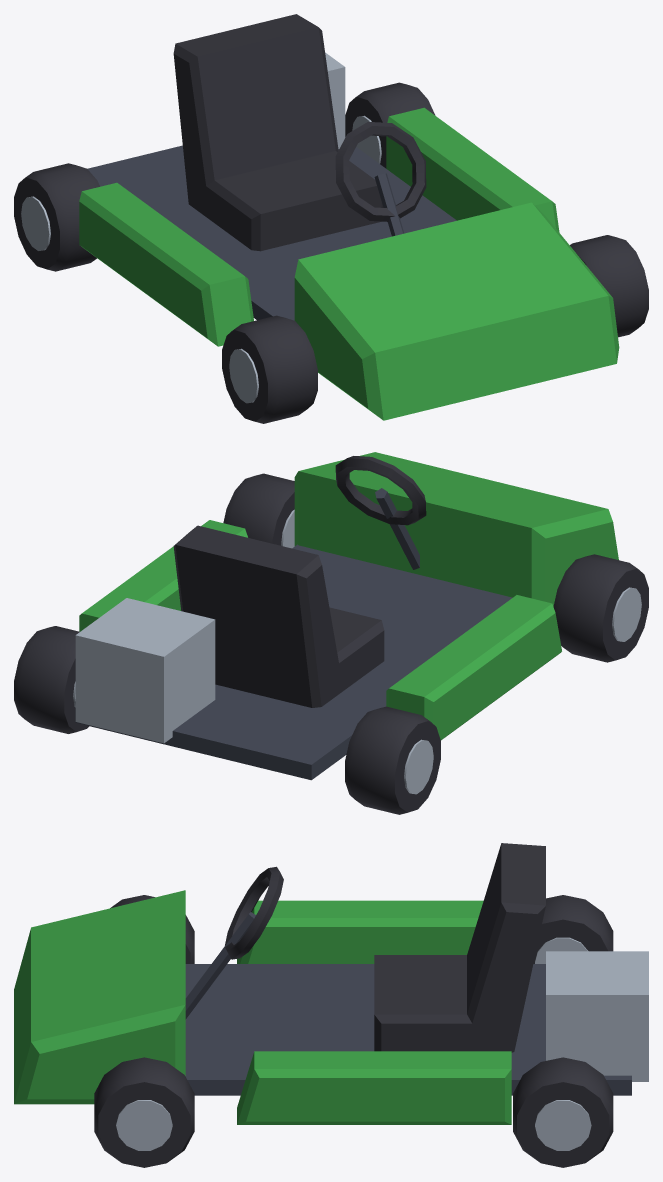
File: pixor.glb
3 views of the same model, one above another, from view 1: azimuth 30°, elevation 25°; view 2: azimuth 150°, elevation 25°; view 3: azimuth 270°, elevation 25° (orthographic).
Parts seen in each view (by area): view 1: Kart nose, Kart seat, Kart side pods, Kart floor, Kart wheels front, Kart wheels back, Kart steering wheel, Kart engine, Kart column; view 2: Kart nose, Kart floor, Kart seat, Kart engine, Kart side pods, Kart wheels back, Kart wheels front, Kart steering wheel, Kart column; view 3: Kart side pods, Kart nose, Kart floor, Kart seat, Kart wheels back, Kart engine, Kart wheels front, Kart steering wheel, Kart column.
Boxes of the visible parts, x1,y1,x2,y2 form: Kart nose: (294,202,619,420); Kart seat: (173,14,383,251); Kart side pods: (79,107,559,346); Kart floor: (87,145,456,320); Kart wheels front: (222,235,648,423); Kart wheels back: (14,82,435,271); Kart steering wheel: (335,122,426,221); Kart engine: (325,52,345,148); Kart column: (374,173,404,236); Kart nose: (294,452,618,606); Kart floor: (75,544,512,780); Kart seat: (173,525,384,707); Kart engine: (75,598,215,743); Kart side pods: (79,520,561,740); Kart wheels back: (14,626,440,814); Kart wheels front: (223,473,648,662); Kart steering wheel: (335,456,426,525); Kart column: (375,488,419,569); Kart side pods: (237,900,511,1124); Kart nose: (14,890,185,1104); Kart floor: (185,964,631,1095); Kart seat: (374,843,545,1052); Kart wheels back: (513,895,613,1167); Kart engine: (546,951,648,1081); Kart wheels front: (94,895,194,1167); Kart steering wheel: (225,866,283,959); Kart column: (185,912,255,1019).
Bounding box in the file's own units: 1.3 × 0.6616 × 1.85.
